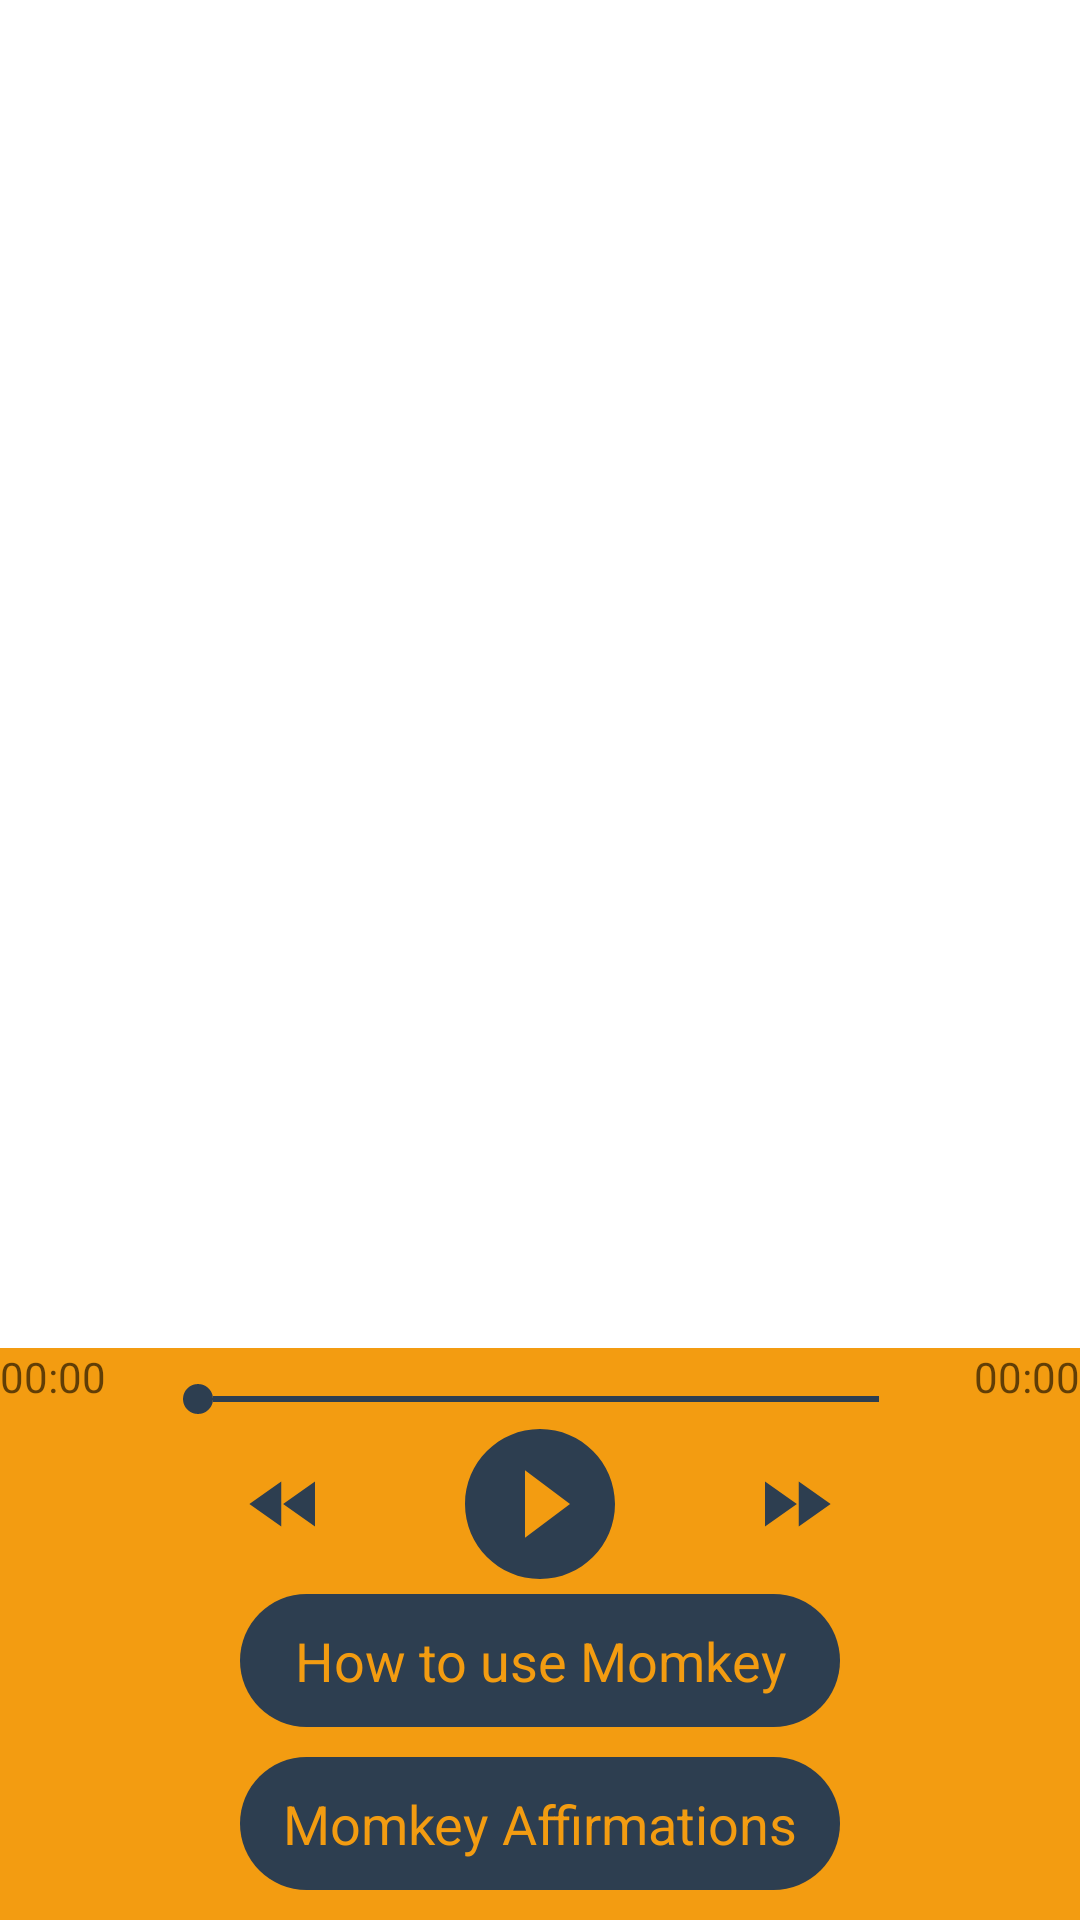

Point at icon controls on the screen. Image size 1080px×1920px, points as [x,y].
back: [282,1504]
next: [798,1504]
play: [540,1504]
